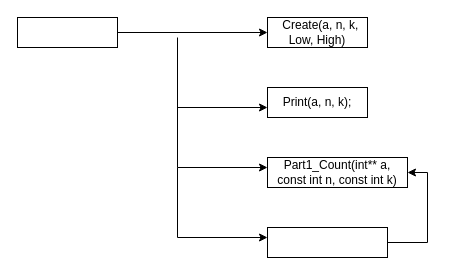
Some shapes in this 453 by 275 pixel diagram are drawn without their labels. The centre of each missing label's shape, as x and y in pixels:
bigger (a,n,k): point (327, 242)
int main(): point (67, 32)
